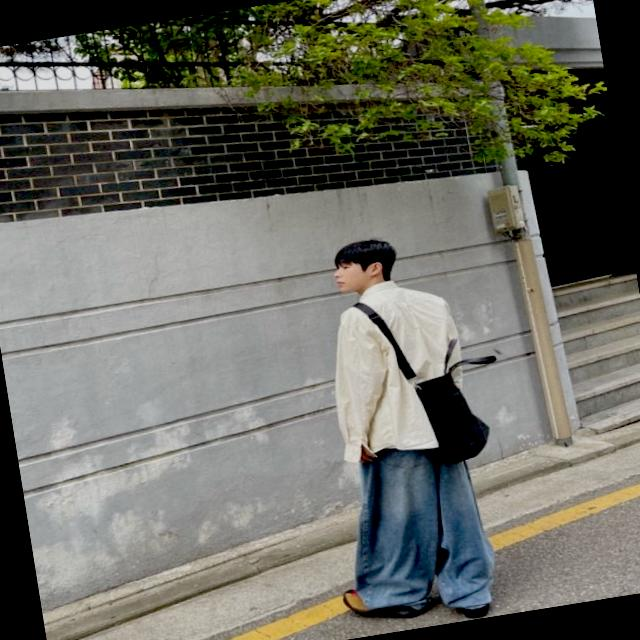denimpants: (334, 430, 503, 627)
shirt: (318, 268, 476, 464)
